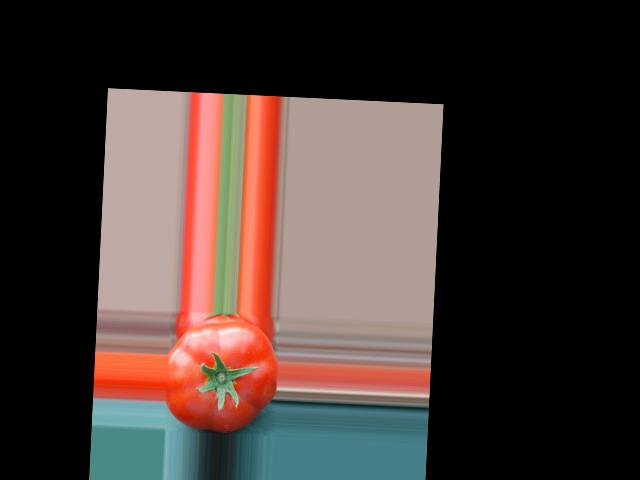tomato: (164, 318, 281, 434)
